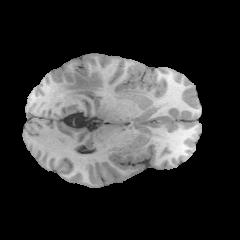glioma: (59, 71, 104, 96)
